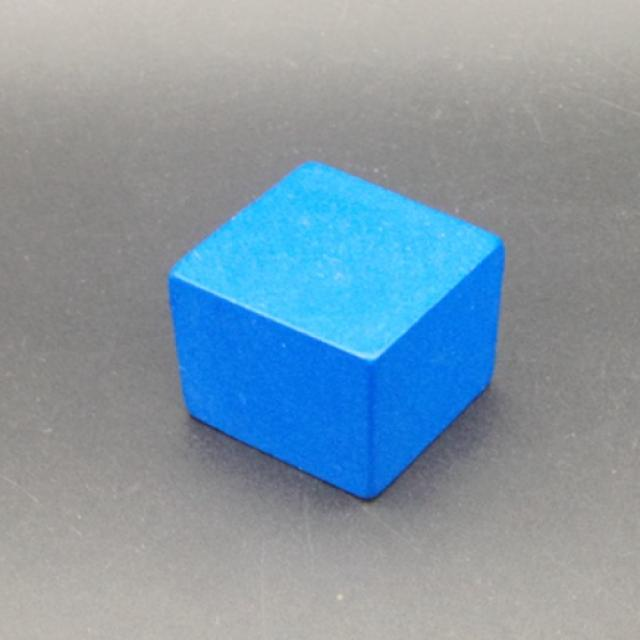bluecube: (167, 162, 506, 503)
